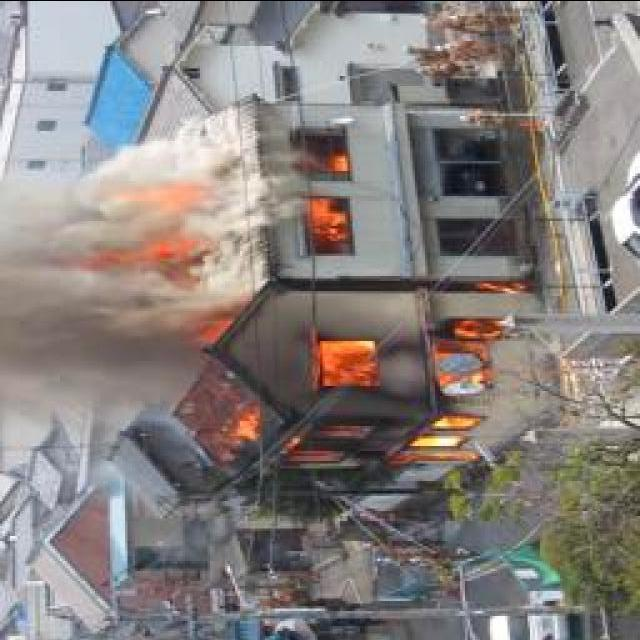Fire: (206, 312, 519, 478), (110, 180, 206, 288), (300, 130, 358, 248)
